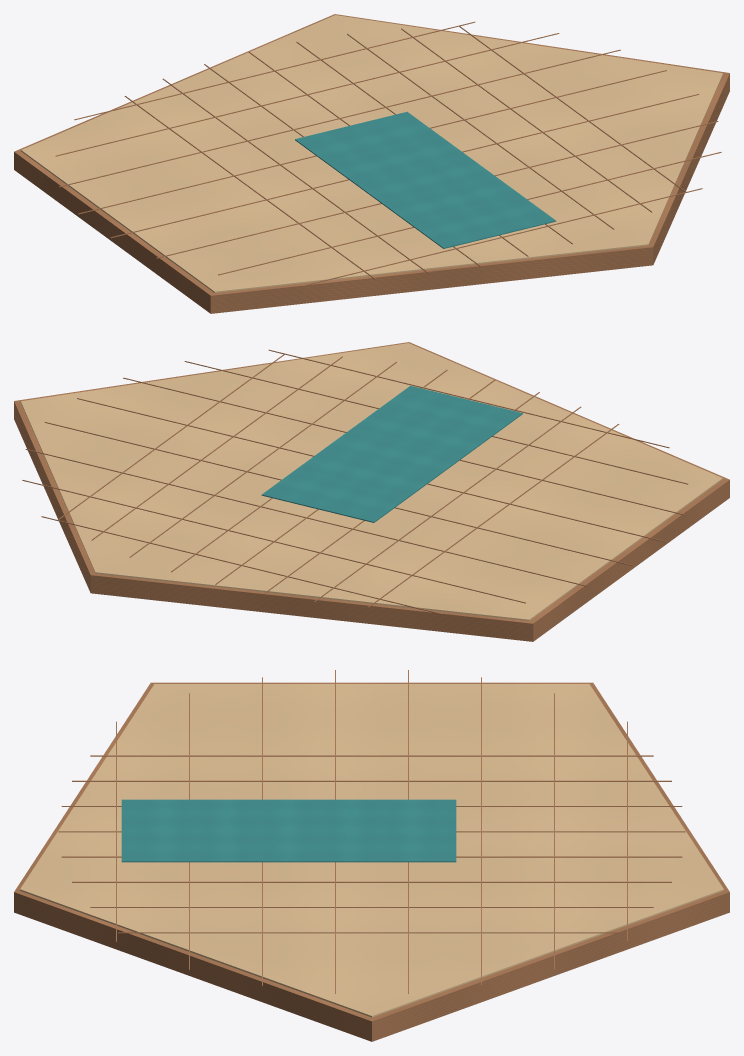
Rendered from atlas100-s094-a07.lod1.glb.
The picture shows the model from 3 angles, top to bottom: view 1: azimuth 30°, elevation 25°; view 2: azimuth 150°, elevation 25°; view 3: azimuth 270°, elevation 25°; orthographic projection. The views are drawn at different scales.
Visible parts, largest first — view 1: atlas100-s094-a07:part-001, atlas100-s094-a07:part-000, atlas100-s094-a07:part-021, atlas100-s094-a07:part-015, atlas100-s094-a07:part-014, atlas100-s094-a07:part-017, atlas100-s094-a07:part-016, atlas100-s094-a07:part-018, atlas100-s094-a07:part-013, atlas100-s094-a07:part-020, atlas100-s094-a07:part-019, atlas100-s094-a07:part-009 (+3 smaller); view 2: atlas100-s094-a07:part-001, atlas100-s094-a07:part-000, atlas100-s094-a07:part-021, atlas100-s094-a07:part-015, atlas100-s094-a07:part-014, atlas100-s094-a07:part-016, atlas100-s094-a07:part-017, atlas100-s094-a07:part-018, atlas100-s094-a07:part-020, atlas100-s094-a07:part-013, atlas100-s094-a07:part-019, atlas100-s094-a07:part-005 (+3 smaller); view 3: atlas100-s094-a07:part-001, atlas100-s094-a07:part-021, atlas100-s094-a07:part-000, atlas100-s094-a07:part-009, atlas100-s094-a07:part-005, atlas100-s094-a07:part-004, atlas100-s094-a07:part-011.
Part boxes in pixels (x1=…): atlas100-s094-a07:part-001: x1=21, y1=15, x2=723, y2=292; atlas100-s094-a07:part-000: x1=14, y1=14, x2=729, y2=313; atlas100-s094-a07:part-021: x1=295, y1=111, x2=556, y2=248; atlas100-s094-a07:part-015: x1=59, y1=49, x2=620, y2=187; atlas100-s094-a07:part-014: x1=55, y1=33, x2=559, y2=156; atlas100-s094-a07:part-017: x1=110, y1=94, x2=699, y2=238; atlas100-s094-a07:part-016: x1=78, y1=70, x2=666, y2=214; atlas100-s094-a07:part-018: x1=156, y1=121, x2=718, y2=258; atlas100-s094-a07:part-013: x1=74, y1=21, x2=475, y2=120; atlas100-s094-a07:part-020: x1=302, y1=188, x2=702, y2=286; atlas100-s094-a07:part-019: x1=218, y1=152, x2=721, y2=275; atlas100-s094-a07:part-009: x1=347, y1=33, x2=614, y2=229; atlas100-s094-a07:part-001: x1=20, y1=343, x2=722, y2=620; atlas100-s094-a07:part-000: x1=14, y1=342, x2=729, y2=641; atlas100-s094-a07:part-021: x1=261, y1=385, x2=522, y2=522; atlas100-s094-a07:part-015: x1=25, y1=449, x2=587, y2=586; atlas100-s094-a07:part-014: x1=22, y1=480, x2=525, y2=603; atlas100-s094-a07:part-016: x1=44, y1=422, x2=633, y2=566; atlas100-s094-a07:part-017: x1=77, y1=398, x2=665, y2=542; atlas100-s094-a07:part-018: x1=123, y1=377, x2=684, y2=515; atlas100-s094-a07:part-020: x1=268, y1=349, x2=669, y2=448; atlas100-s094-a07:part-013: x1=41, y1=516, x2=441, y2=614; atlas100-s094-a07:part-019: x1=184, y1=361, x2=688, y2=484; atlas100-s094-a07:part-005: x1=313, y1=406, x2=581, y2=602; atlas100-s094-a07:part-001: x1=20, y1=684, x2=723, y2=1017; atlas100-s094-a07:part-021: x1=121, y1=799, x2=456, y2=862; atlas100-s094-a07:part-000: x1=14, y1=682, x2=729, y2=1041; atlas100-s094-a07:part-009: x1=72, y1=881, x2=671, y2=882; atlas100-s094-a07:part-005: x1=72, y1=780, x2=671, y2=781; atlas100-s094-a07:part-004: x1=90, y1=755, x2=653, y2=756; atlas100-s094-a07:part-011: x1=118, y1=932, x2=625, y2=933.
Bounding box in the file's own units: 12.43 × 0.404 × 10.78.
3 materials, 3 textured.
